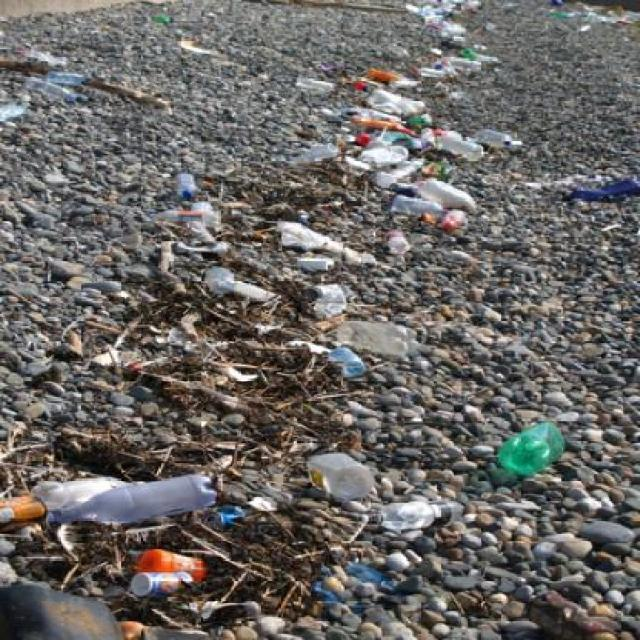garbage: (362, 0, 504, 629), (176, 214, 367, 638), (52, 437, 180, 640), (291, 79, 362, 220), (500, 405, 578, 515), (549, 158, 638, 210)
